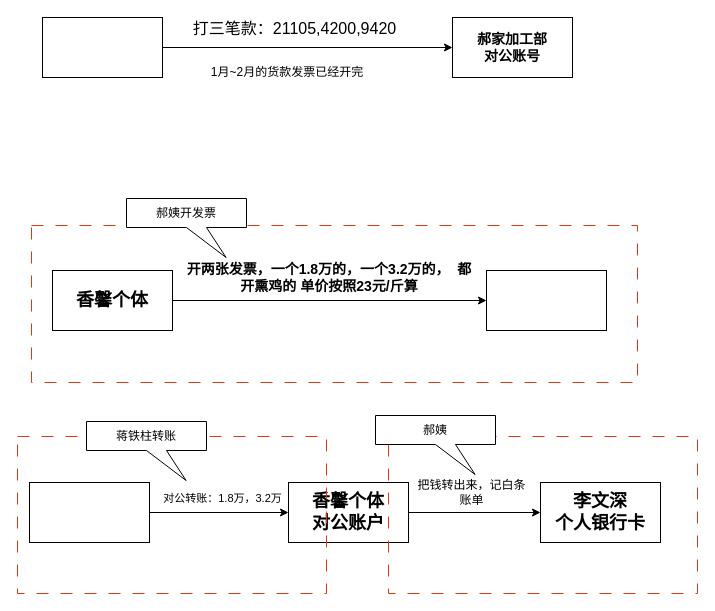
The diagram is 715 pixels wide and 611 high, and some of its shapes have lost their labels. Here are the shapes that lost their labels. From the top down, the box of each, then its label:
(42, 16, 162, 78): 商贸 对公账号
(486, 270, 606, 330): 郝婆子个体
(28, 482, 150, 542): 郝婆子个体 对公账号
